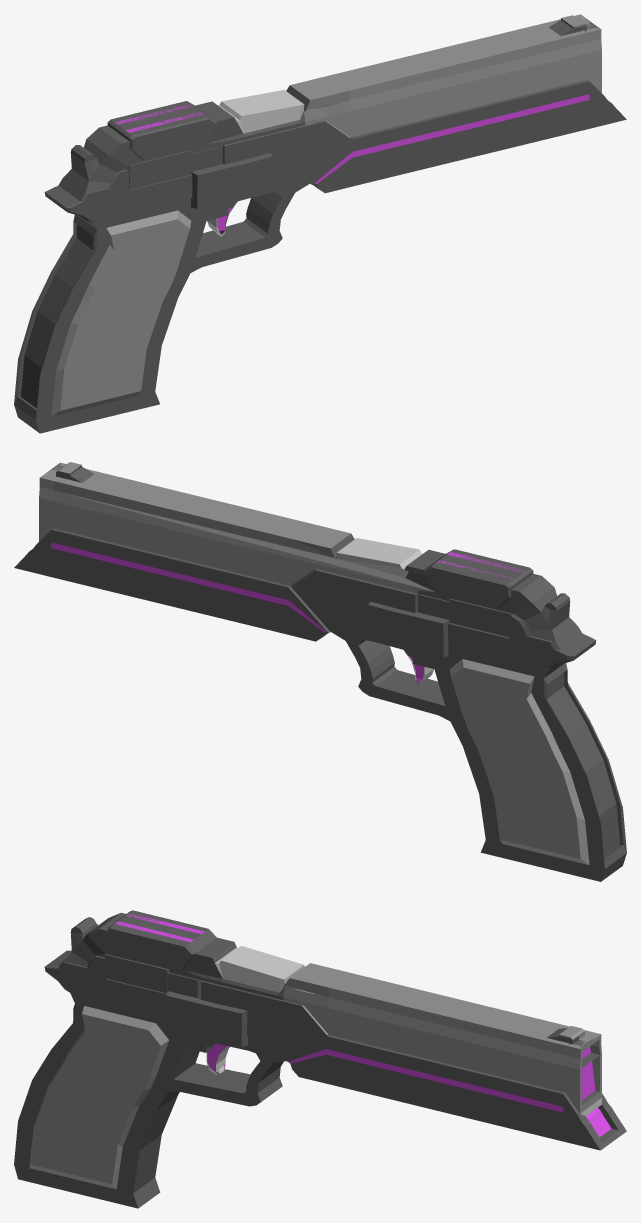
The model's file is Cybergun_Pink.fbx.
The picture shows the model from 3 angles, top to bottom: view 1: azimuth 30°, elevation 25°; view 2: azimuth 150°, elevation 25°; view 3: azimuth 330°, elevation 25°; orthographic projection.
Visible parts, largest first — view 1: Cube; view 2: Cube; view 3: Cube.
Boxes of the visible parts, <box> form: Cube: <box>14,14,626,433</box>; Cube: <box>14,462,626,881</box>; Cube: <box>14,910,626,1208</box>.
Bounding box in the file's own units: 610 × 273 × 55.53.
